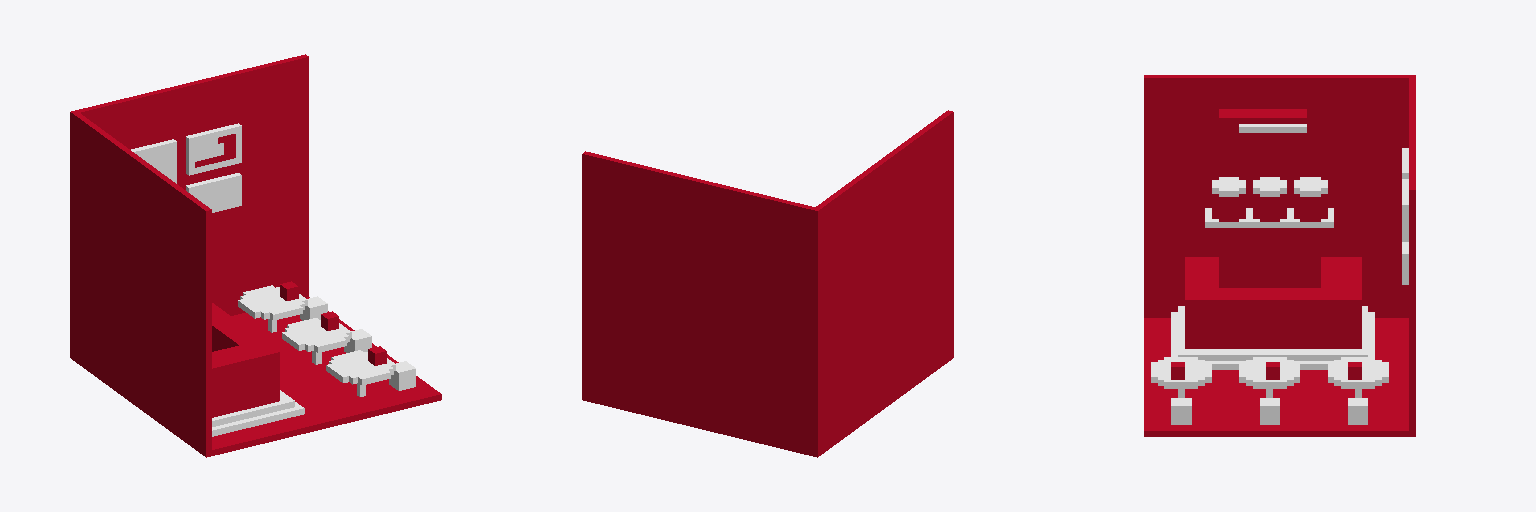
The picture shows the model from 3 angles: view 1: azimuth 30°, elevation 25°; view 2: azimuth 150°, elevation 25°; view 3: azimuth 270°, elevation 25°; orthographic projection.
Parts seen in each view (by area): view 1: object 1; view 2: object 1; view 3: object 1.
Part boxes in pixels (bbox=[...]): object 1: bbox=[70, 54, 441, 457]; object 1: bbox=[582, 110, 953, 457]; object 1: bbox=[1144, 75, 1415, 436].
Bounding box in the file's own units: 4 × 4 × 4.
Materials: 1 (1 with a texture image).